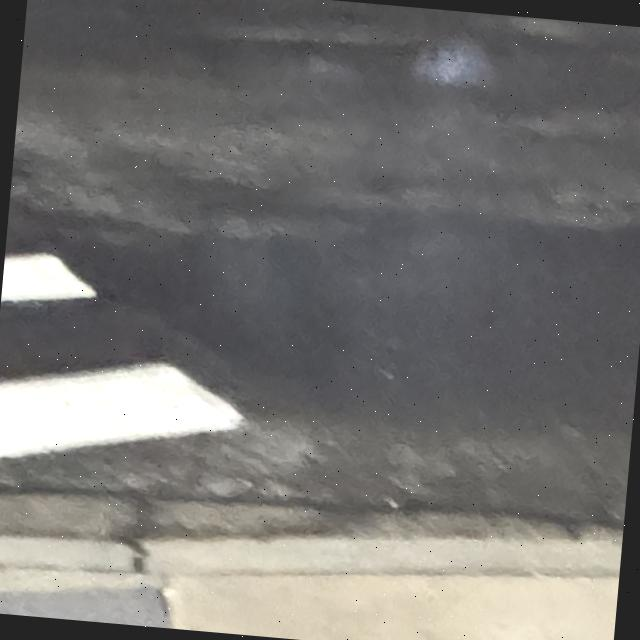curb: (143, 536, 621, 576), (0, 535, 138, 573)
